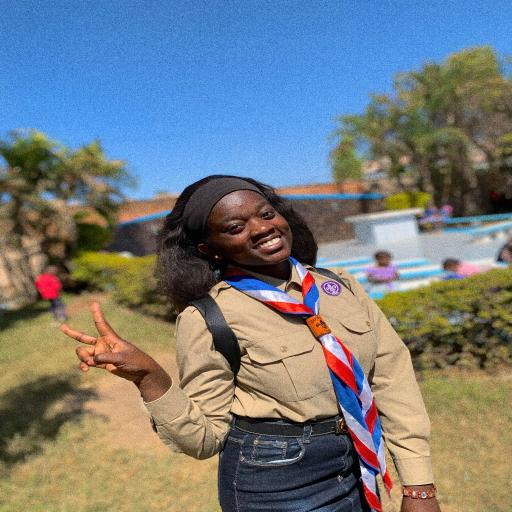LAURENE: (159, 177, 329, 275)
